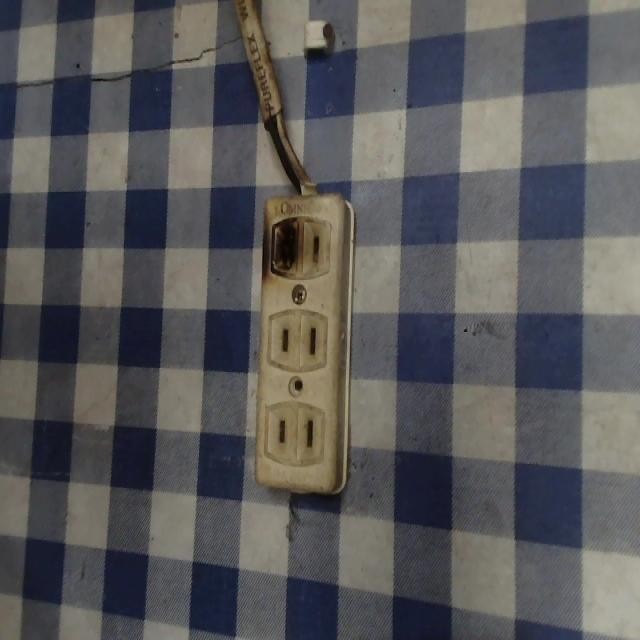-: (257, 203, 303, 281)
